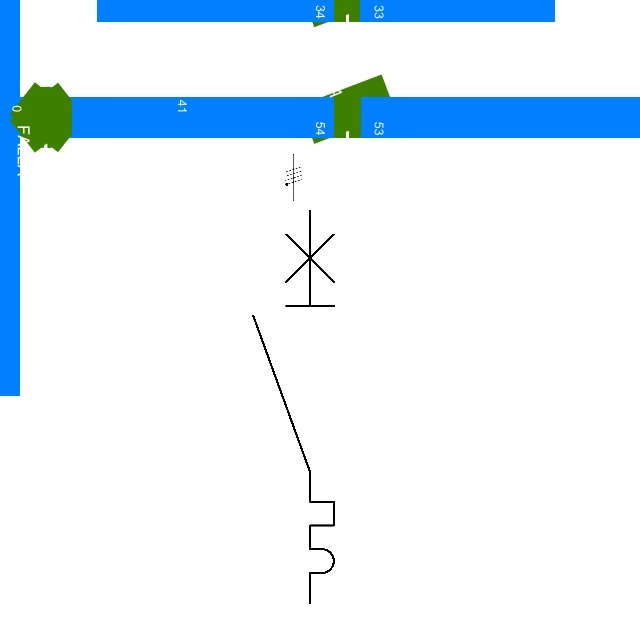interruptor_termomagnetico: (243, 200, 344, 613)
